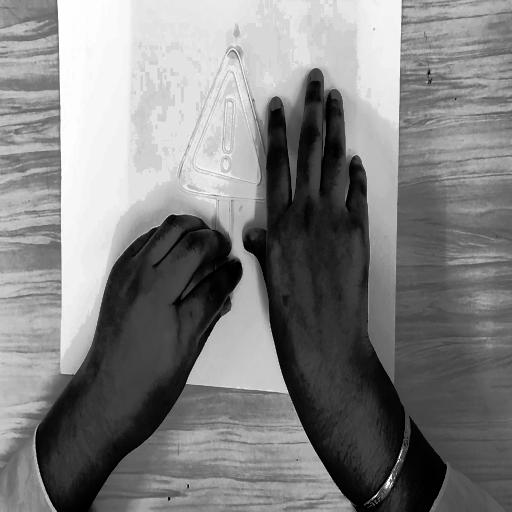bottom_left: (55, 364, 64, 383)
bottom_right: (388, 382, 397, 404)
signboard: (171, 40, 287, 313)
